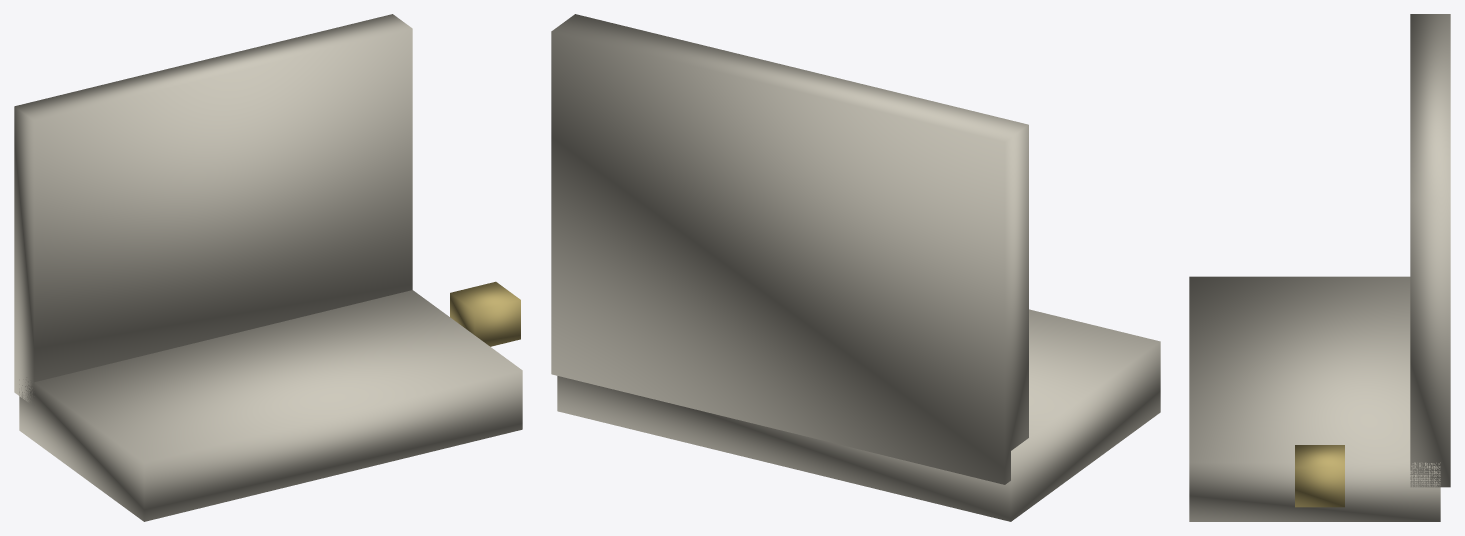
The model's file is baby_change_02.glb.
3 views of the same model, side by side, from view 1: azimuth 30°, elevation 25°; view 2: azimuth 150°, elevation 25°; view 3: azimuth 270°, elevation 25° (orthographic). The views are drawn at different scales.
Visible parts, largest first — view 1: world; view 2: world; view 3: world.
Part boxes in pixels (box(x1,y1,x2,y2)): world: box(14, 14, 522, 521); world: box(551, 14, 1160, 521); world: box(1189, 14, 1450, 521).
Bounding box in the file's own units: 0.8928 × 0.637 × 0.468.
